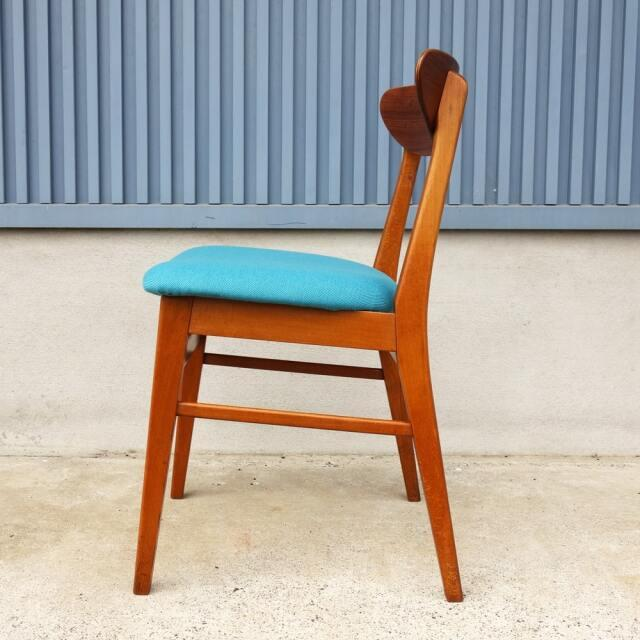chair vintage: (123, 46, 474, 610)
